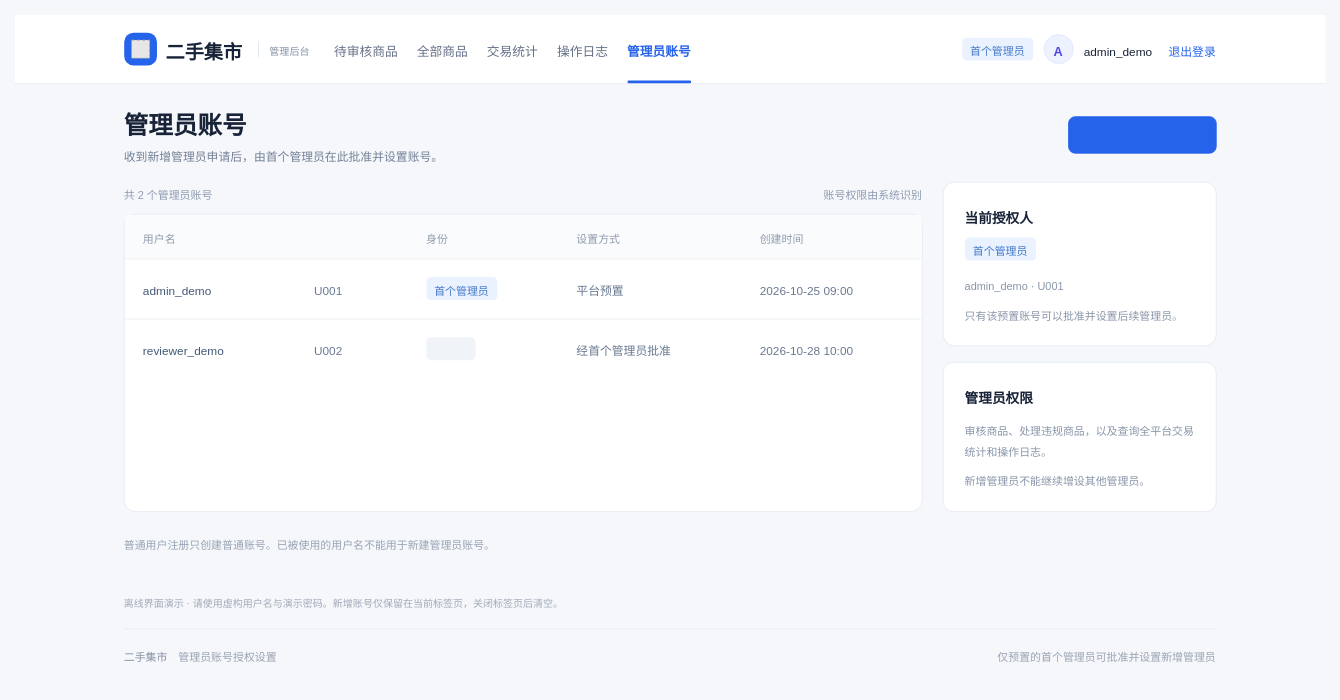
Image size: 1340x700. Some labels were removed from this diagram. Grey dashed boxes stand in for pictures. Here are the shapes that lost their labels. From the top down, the centre of each, then its label:
the point at 1142,134: ＋ 批准并设置账号
the point at 352,236: 账号编号
the point at 450,348: 管理员
